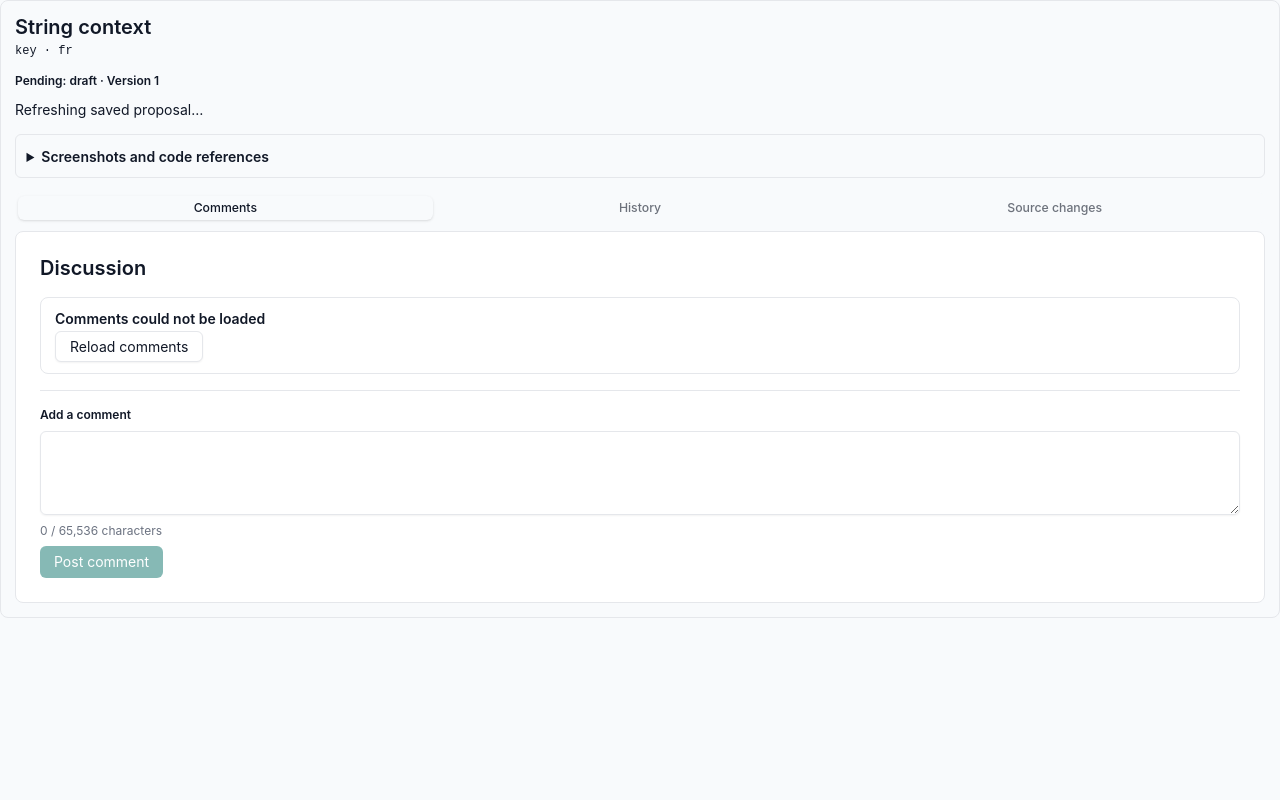
Scenario: selected translation context › cancels an older proposal refetch when a fresh detail supplies that proposal
Click the tab "Source changes".
click(1055, 208)  # box x1=847 y1=196 x2=1262 y2=220
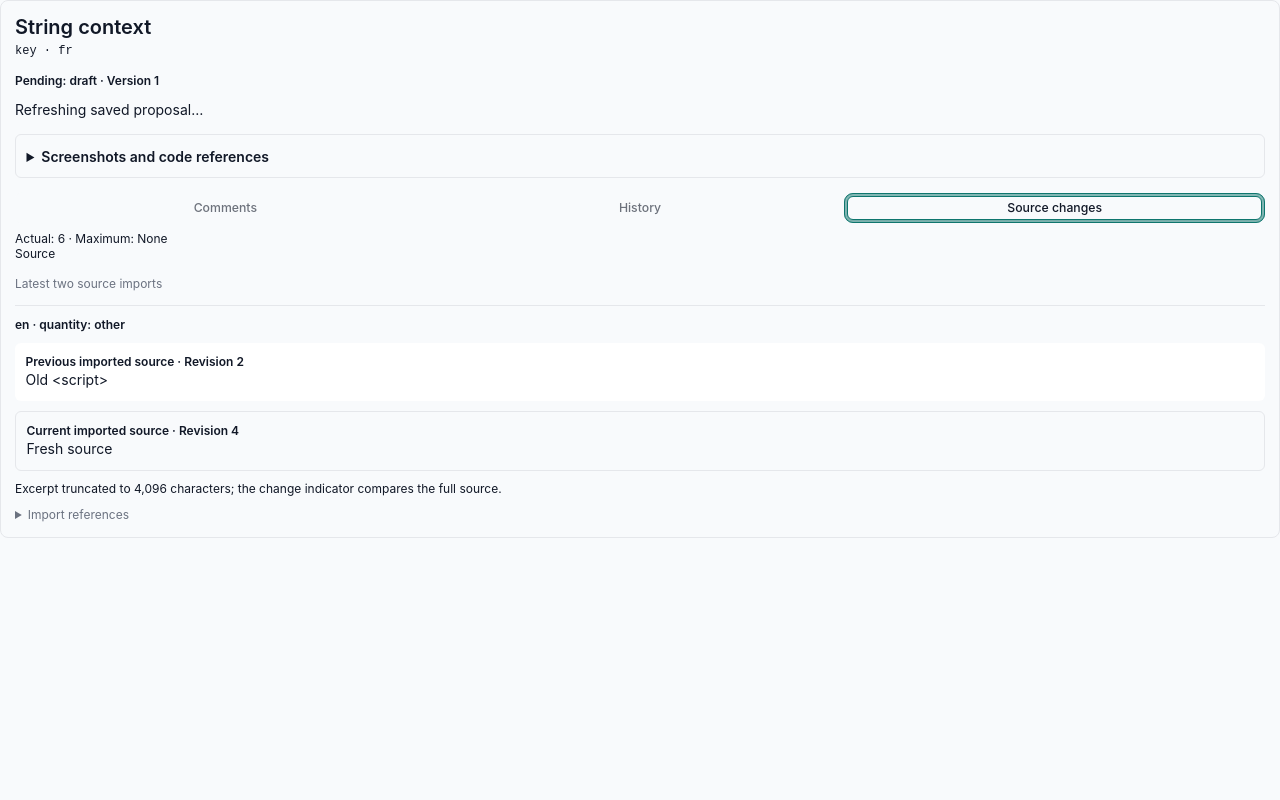
Check: the text "Fresh source" is shown, box x1=26 y1=440 x2=112 y2=457
